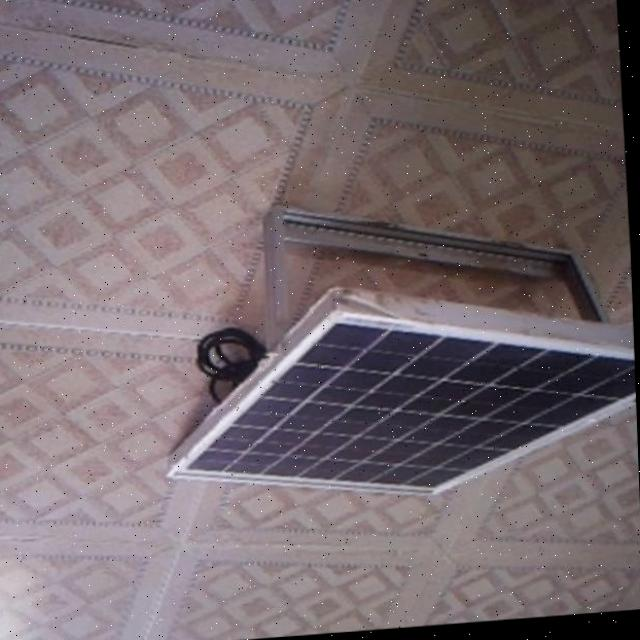Normal Solar Panel: (161, 278, 640, 520)
